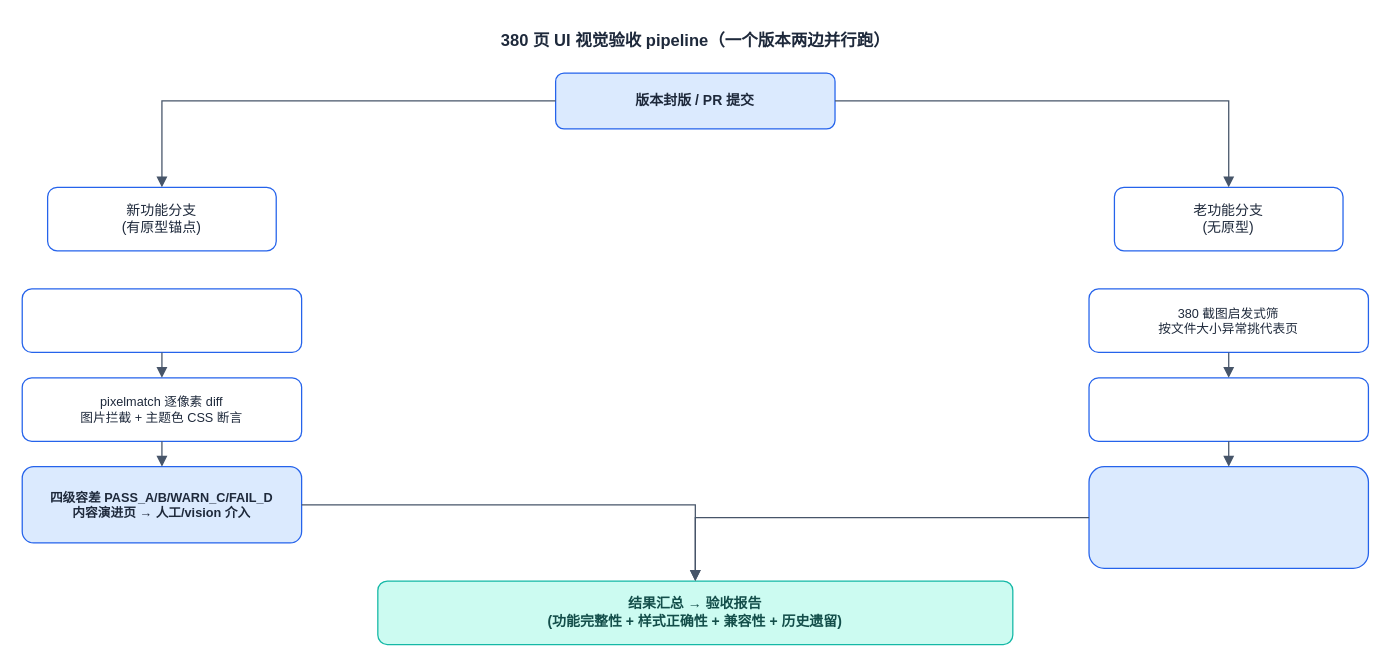
Some shapes in this 1391 by 667 pixel diagram are drawn without their labels. Each missing label, with the centre of its shape:
"5% 抽样(18 张) → vision 深审 出疑点(会幻觉)" goes at [1228,409].
"Playwright 双 context 原型 vs 实现 375×812 截图" goes at [161,320].
"代码审计判真伪 design token + DOM computed-style 423/427 走 token / 4 文件硬编码(真问题)" goes at [1228,516].
